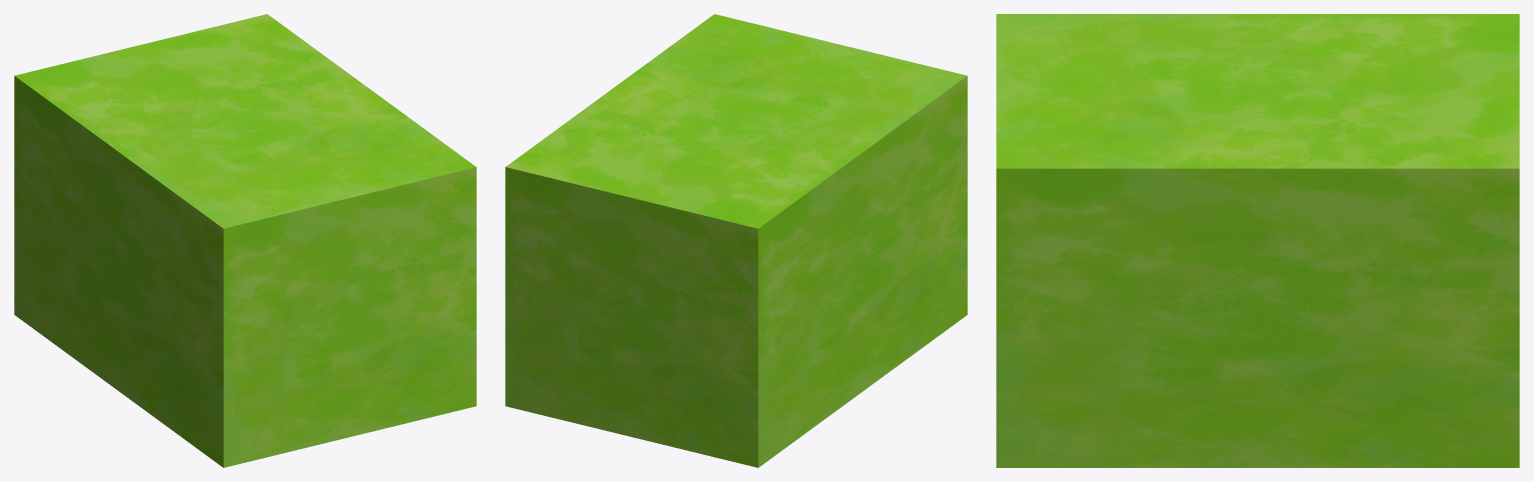
Rendered from FMeshPart.FBX.
3 renders of one model, left to right at view 1: azimuth 30°, elevation 25°; view 2: azimuth 150°, elevation 25°; view 3: azimuth 270°, elevation 25°, orthographic. The views are drawn at different scales.
Visible parts, largest first — view 1: FPlane; view 2: FPlane; view 3: FPlane.
Boxes of the visible parts, x1=… form: FPlane: x1=14, y1=14, x2=476, y2=467; FPlane: x1=505, y1=14, x2=967, y2=467; FPlane: x1=996, y1=14, x2=1519, y2=467.
Size of the model in its own units: 22.04 by 19.92 by 31.56.
